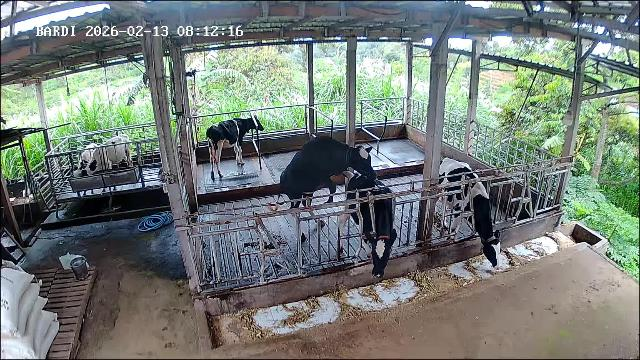mounting: (277, 137, 373, 239)
